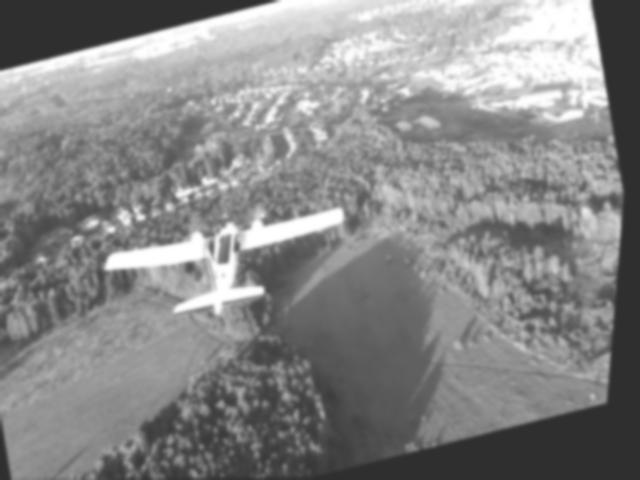hedef: (84, 172, 377, 346)
